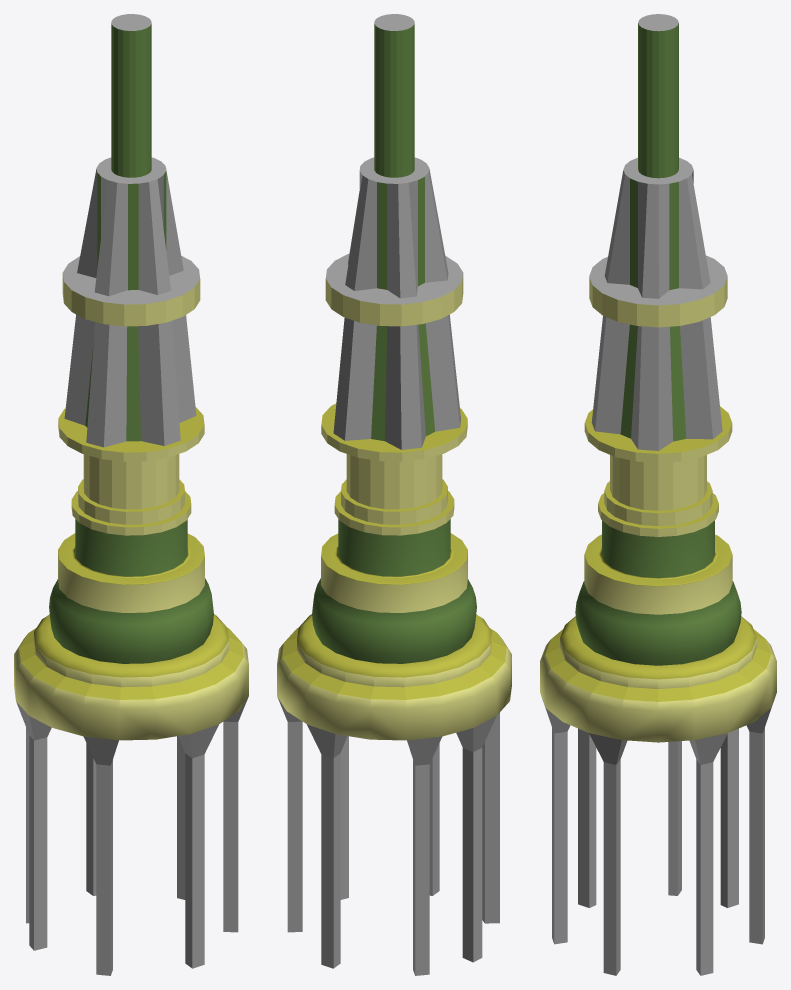
File: Building_1.fbx
The picture shows the model from 3 angles, left to right: view 1: azimuth 30°, elevation 25°; view 2: azimuth 150°, elevation 25°; view 3: azimuth 270°, elevation 25°; orthographic projection.
Visible parts, largest first — view 1: Building_1; view 2: Building_1; view 3: Building_1.
Part boxes in pixels (x1=…): Building_1: x1=14, y1=14, x2=248, y2=975; Building_1: x1=277, y1=14, x2=511, y2=975; Building_1: x1=540, y1=14, x2=776, y2=975.
Size of the model in its own units: 16.72 by 70.99 by 16.72.
